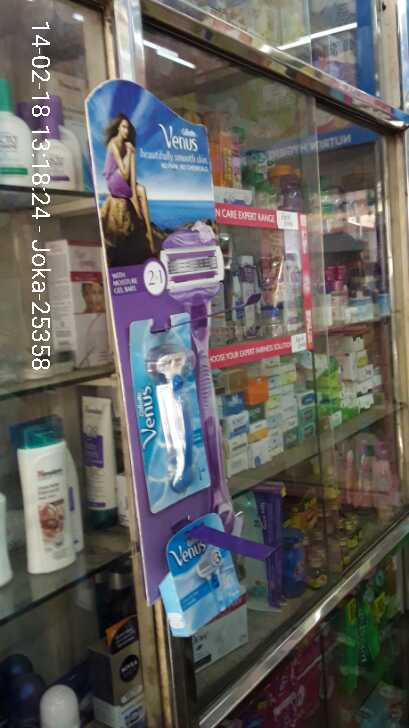venus: (130, 320, 210, 496), (160, 521, 242, 630)
